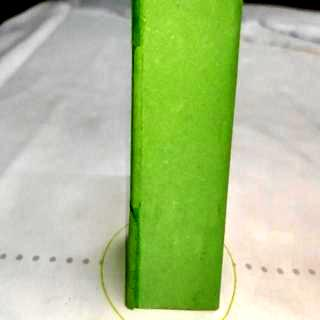greenbox: (124, 2, 242, 310)
